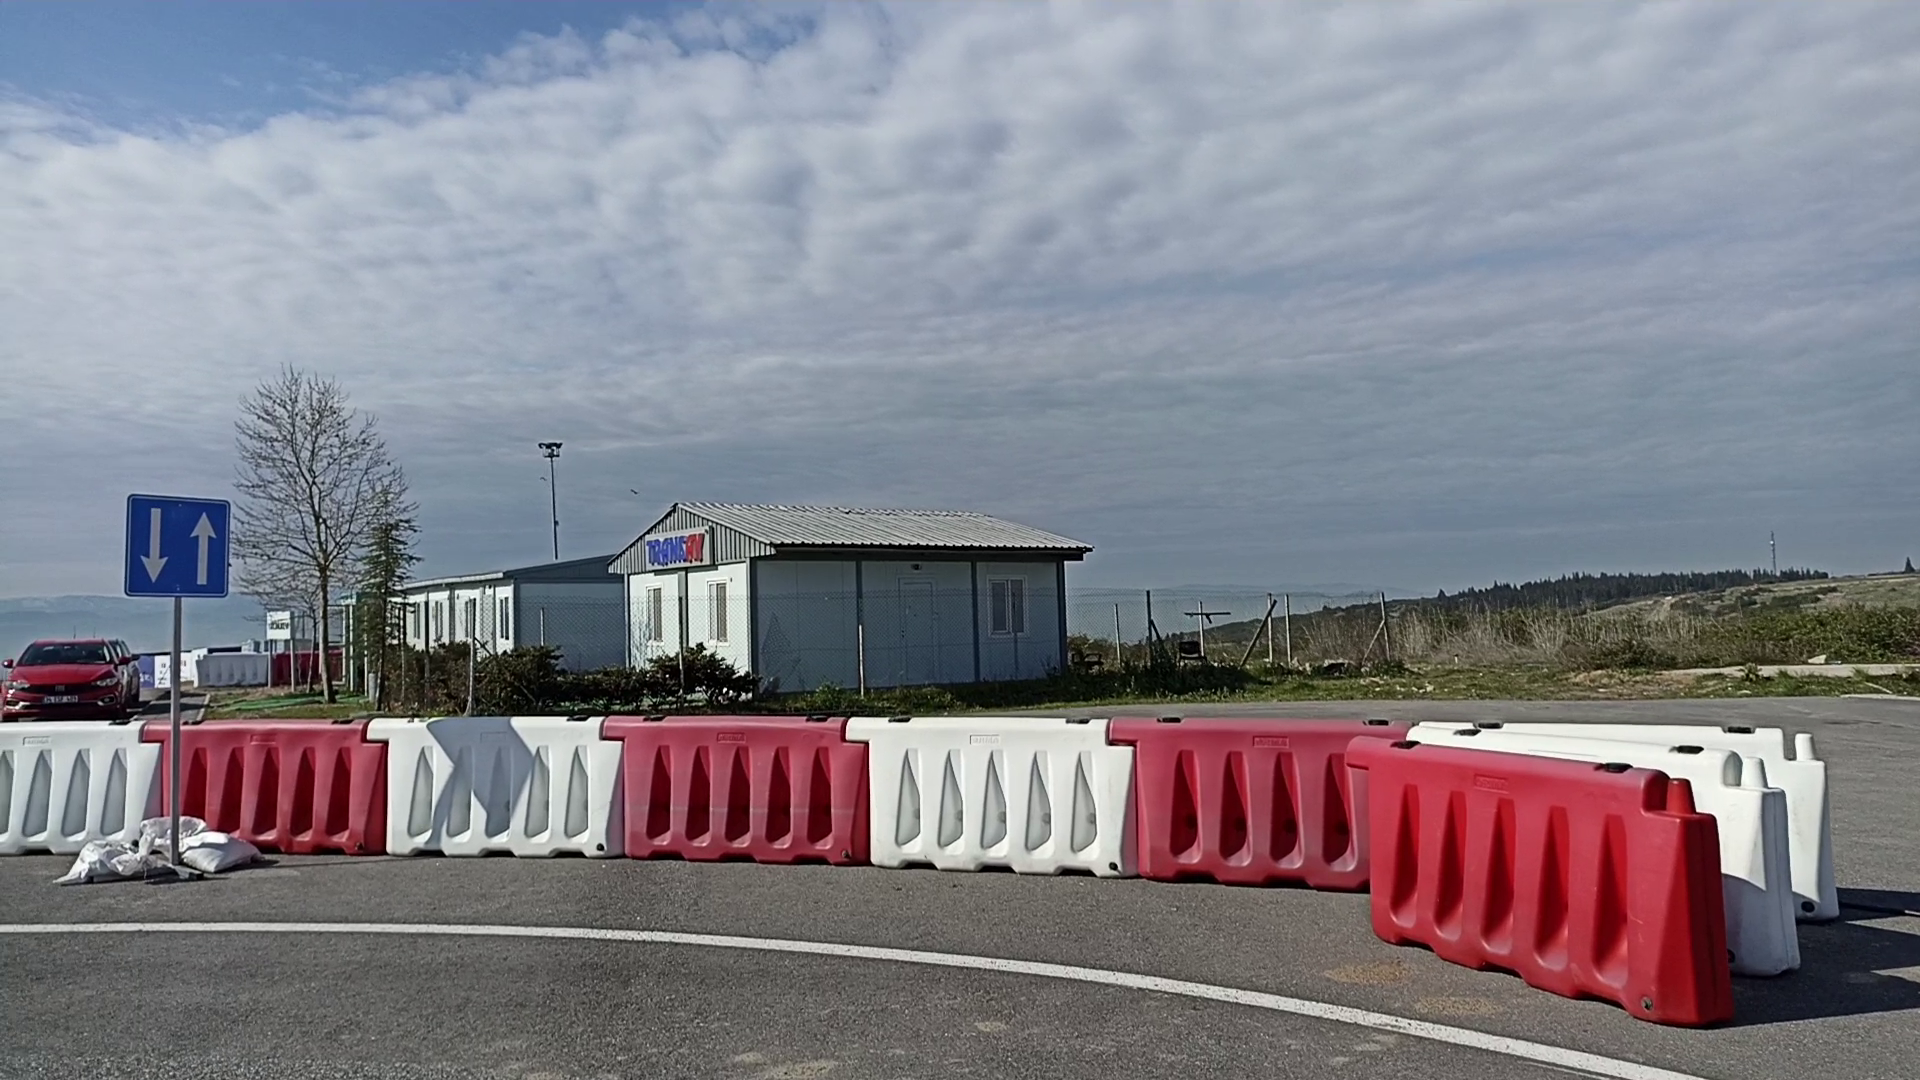oneway: (123, 493, 232, 601)
